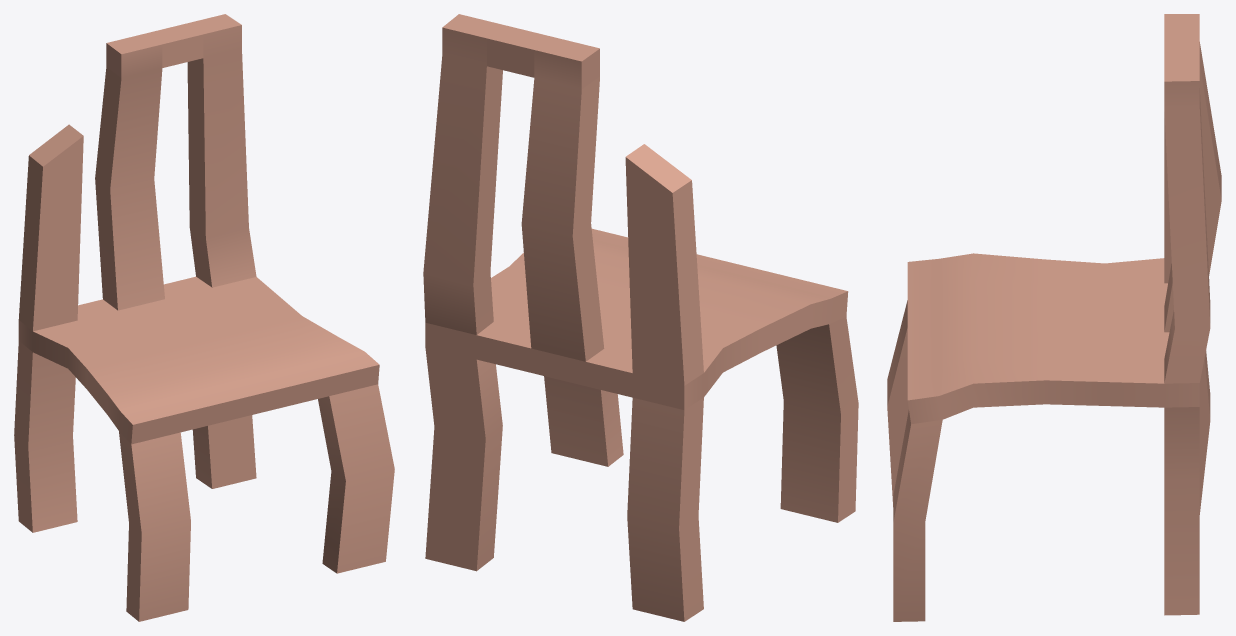
File: Silla_003.fbx
The picture shows the model from 3 angles, left to right: view 1: azimuth 30°, elevation 25°; view 2: azimuth 150°, elevation 25°; view 3: azimuth 270°, elevation 25°; orthographic projection. The views are drawn at different scales.
Visible parts, largest first — view 1: Silla_003; view 2: Silla_003; view 3: Silla_003.
Part boxes in pixels (left/top/right/bottom): Silla_003: left=14, top=14, right=394, bottom=621; Silla_003: left=423, top=14, right=858, bottom=621; Silla_003: left=887, top=14, right=1221, bottom=621.
Size of the model in its own units: 0.0102 by 0.0175 by 0.0101.
